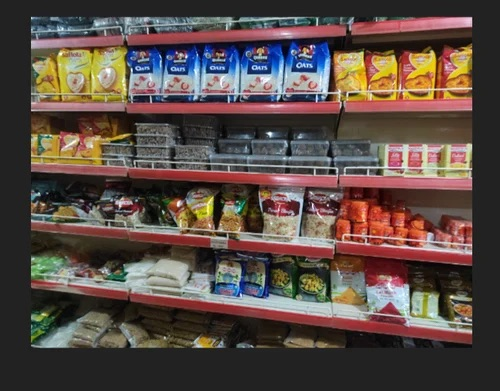saffola: (238, 43, 436, 101), (165, 60, 233, 98), (434, 46, 474, 98), (95, 53, 124, 92)
